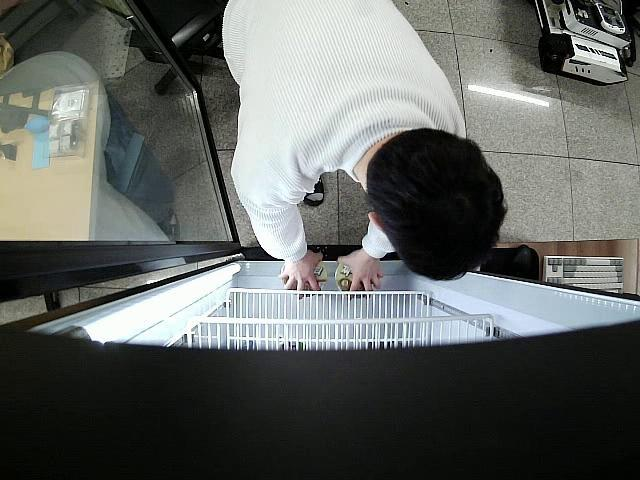03_chapagetti_L: (281, 257, 328, 294), (336, 262, 370, 297)
